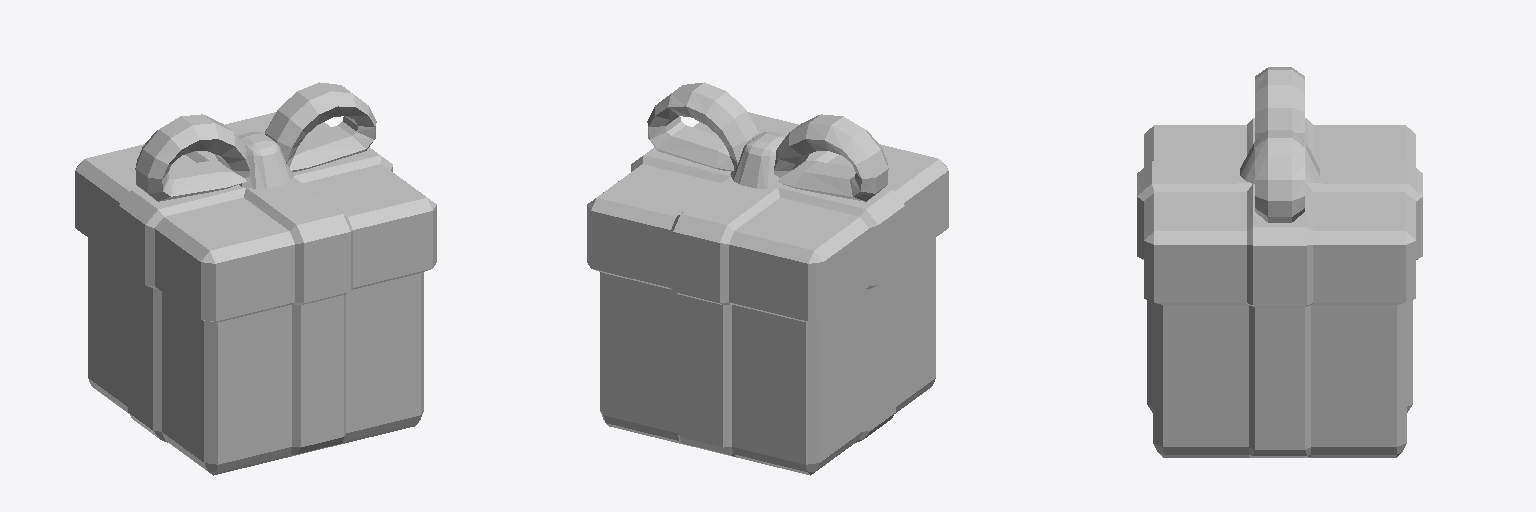
The model's file is present_A_blue.obj.
3 views of the same model, side by side, from view 1: azimuth 30°, elevation 25°; view 2: azimuth 150°, elevation 25°; view 3: azimuth 270°, elevation 25° (orthographic).
Parts seen in each view (by area): view 1: present_A_blue; view 2: present_A_blue; view 3: present_A_blue.
Part boxes in pixels (bbox=[...]): present_A_blue: bbox=[75, 82, 436, 475]; present_A_blue: bbox=[587, 82, 948, 475]; present_A_blue: bbox=[1137, 67, 1422, 457].
Bounding box in the file's own units: 0.5638 × 0.6617 × 0.5638.